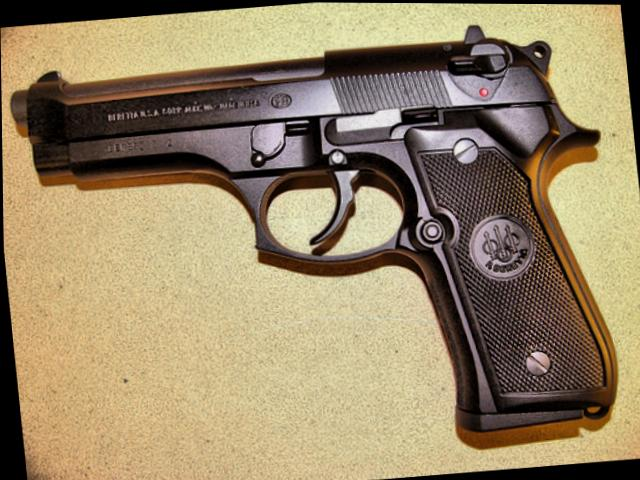pistol: (2, 10, 626, 467)
